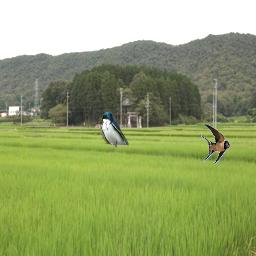Swallow: (200, 124, 230, 164), (100, 111, 129, 151)
